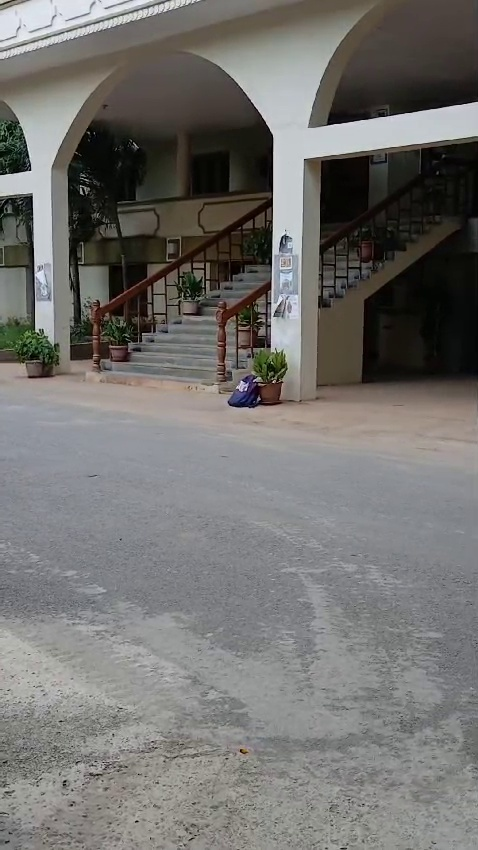handbag: (227, 372, 260, 409)
